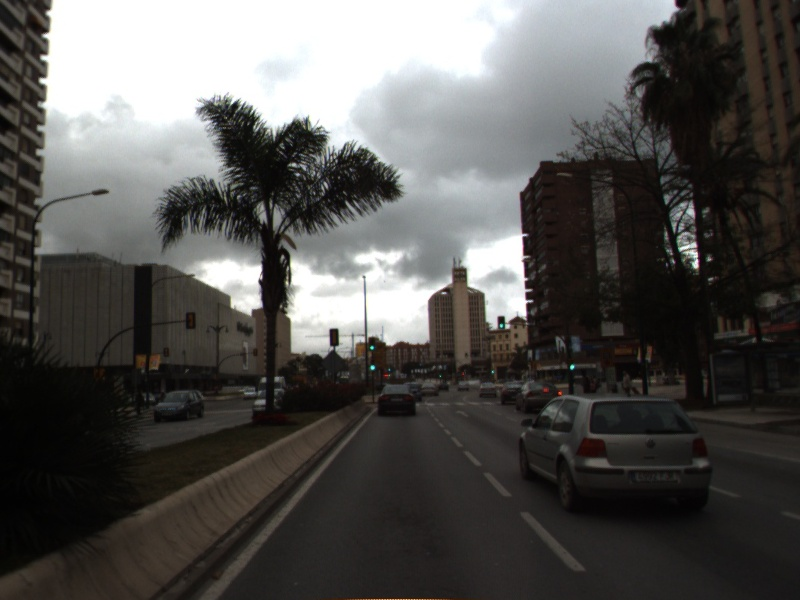STRAIGHT: (453, 407, 472, 419)
